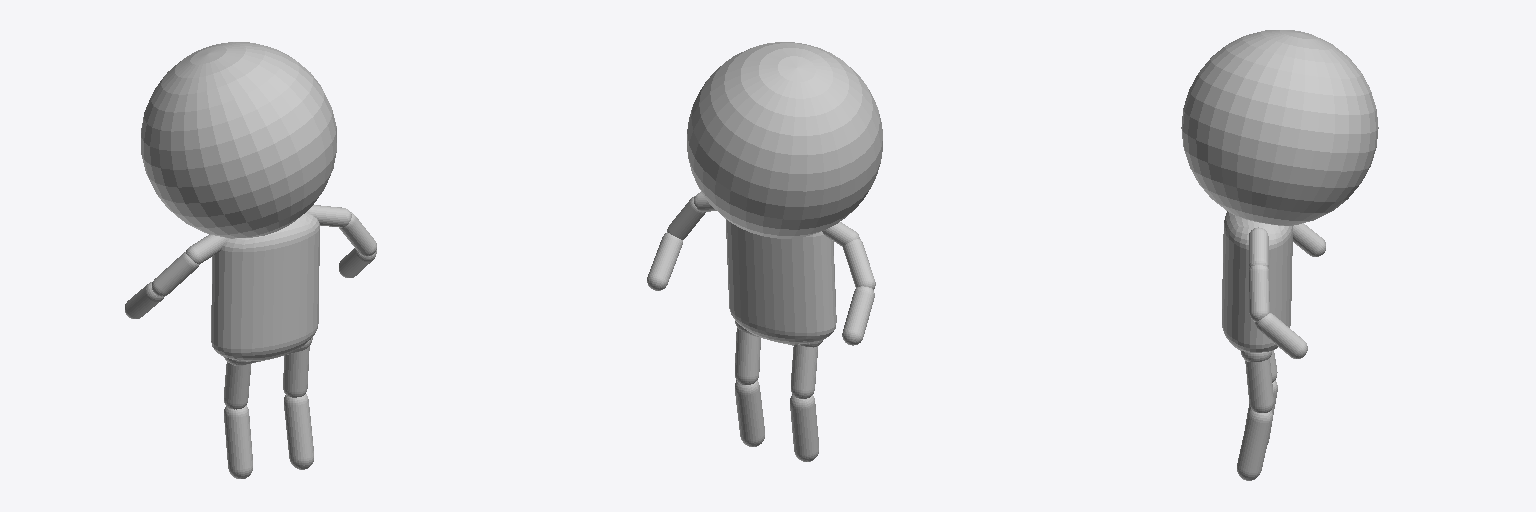
Rendered from Stickman_000073.obj.
3 renders of one model, left to right at view 1: azimuth 30°, elevation 25°; view 2: azimuth 150°, elevation 25°; view 3: azimuth 270°, elevation 25°, orthographic.
Visible parts, largest first — view 1: Head_Sphere.001, Body_Roundcube.002, LowerLegLeft_Roundcube.013, LowerLegRight_Roundcube.011, UpperLegLeft_Roundcube.012, UpperLegRight_Roundcube.010, UpperArmRight_Roundcube.015, UpperArmLeft_Roundcube.018, LowerArmRight_Roundcube.016, ShoulderLeft_Roundcube.017, ShoulderRight_Roundcube.014, LowerArmLeft_Roundcube.019; view 2: Head_Sphere.001, Body_Roundcube.002, LowerLegRight_Roundcube.011, LowerLegLeft_Roundcube.013, UpperLegRight_Roundcube.010, LowerArmRight_Roundcube.016, UpperLegLeft_Roundcube.012, LowerArmLeft_Roundcube.019, UpperArmRight_Roundcube.015, UpperArmLeft_Roundcube.018; view 3: Head_Sphere.001, Body_Roundcube.002, LowerLegLeft_Roundcube.013, UpperLegLeft_Roundcube.012, LowerArmLeft_Roundcube.019, UpperArmLeft_Roundcube.018, LowerArmRight_Roundcube.016, ShoulderLeft_Roundcube.017.
Boxes of the visible parts, <box> form: Head_Sphere.001: <box>141,42,336,238</box>; Body_Roundcube.002: <box>211,212,319,361</box>; LowerLegLeft_Roundcube.013: <box>284,394,313,469</box>; LowerLegRight_Roundcube.011: <box>224,405,252,478</box>; UpperLegLeft_Roundcube.012: <box>283,346,309,397</box>; UpperLegRight_Roundcube.010: <box>224,362,250,409</box>; UpperArmRight_Roundcube.015: <box>152,252,199,296</box>; UpperArmLeft_Roundcube.018: <box>339,212,376,256</box>; LowerArmRight_Roundcube.016: <box>125,282,164,318</box>; ShoulderLeft_Roundcube.017: <box>307,205,351,227</box>; ShoulderRight_Roundcube.014: <box>186,234,227,263</box>; LowerArmLeft_Roundcube.019: <box>339,248,376,277</box>; Head_Sphere.001: <box>687,42,882,238</box>; Body_Roundcube.002: <box>726,219,836,344</box>; LowerLegRight_Roundcube.011: <box>790,394,818,461</box>; LowerLegLeft_Roundcube.013: <box>735,380,764,446</box>; UpperLegRight_Roundcube.010: <box>791,345,817,398</box>; LowerArmRight_Roundcube.016: <box>842,286,874,345</box>; UpperLegLeft_Roundcube.012: <box>735,328,760,384</box>; LowerArmLeft_Roundcube.019: <box>647,232,682,290</box>; UpperArmRight_Roundcube.015: <box>843,239,875,289</box>; UpperArmLeft_Roundcube.018: <box>667,196,705,239</box>; Head_Sphere.001: <box>1181,30,1378,225</box>; Body_Roundcube.002: <box>1222,211,1292,352</box>; LowerLegLeft_Roundcube.013: <box>1237,409,1272,480</box>; UpperLegLeft_Roundcube.012: <box>1245,358,1273,412</box>; LowerArmLeft_Roundcube.019: <box>1255,313,1307,358</box>; UpperArmLeft_Roundcube.018: <box>1249,265,1269,321</box>; LowerArmRight_Roundcube.016: <box>1293,223,1325,256</box>; ShoulderLeft_Roundcube.017: <box>1249,227,1268,267</box>.
Bounding box in the file's own units: 7.25 × 12.91 × 5.52.